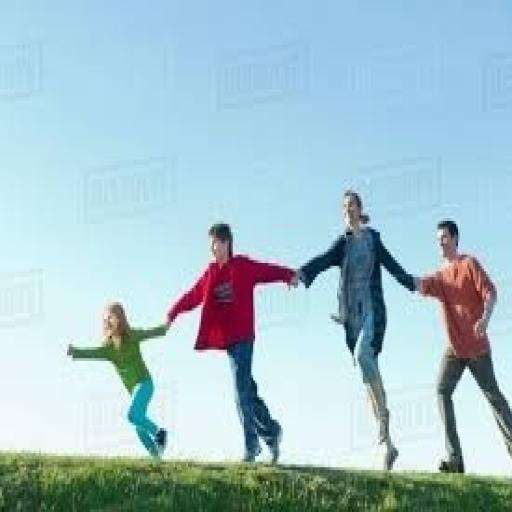running: (292, 184, 423, 472), (164, 218, 302, 470), (413, 216, 510, 478), (63, 296, 173, 464)
